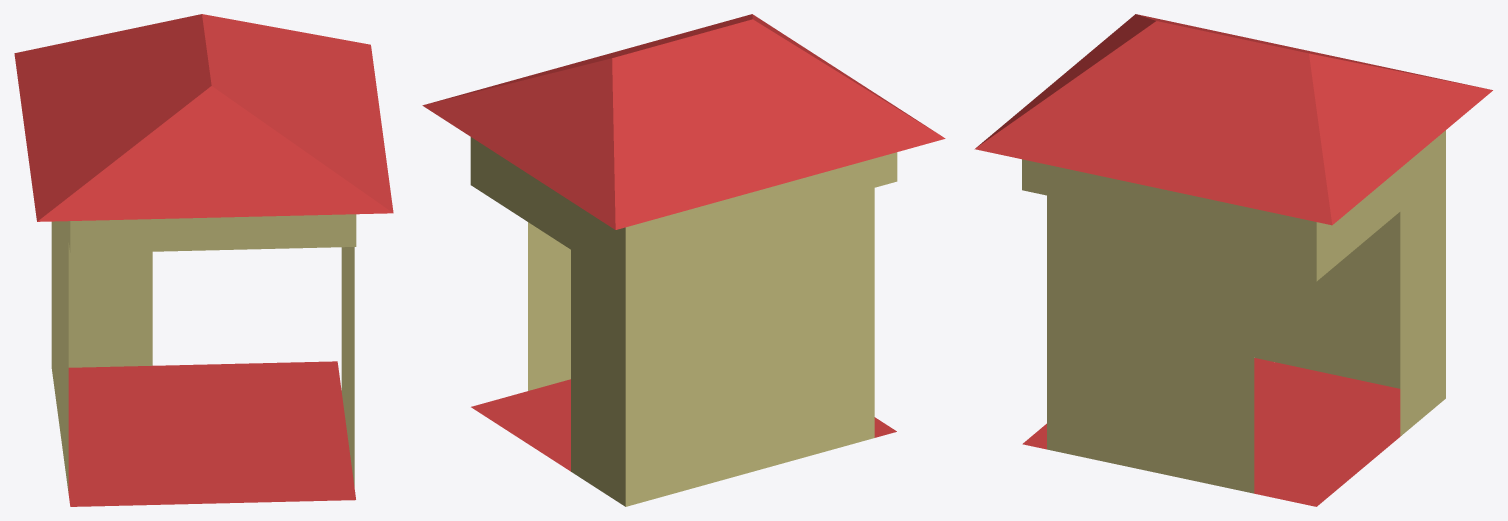
The picture shows the model from 3 angles, left to right: view 1: azimuth 30°, elevation 25°; view 2: azimuth 150°, elevation 25°; view 3: azimuth 270°, elevation 25°; orthographic projection.
Parts seen in each view (by area): view 1: group_3, group_6, group_5, group_4; view 2: group_5, group_3, group_4, group_6; view 3: group_5, group_3, group_6, group_4.
Boxes of the visible parts, bbox=[...] form: group_3: bbox=[14, 14, 393, 221]; group_6: bbox=[68, 361, 355, 506]; group_5: bbox=[51, 214, 356, 492]; group_4: bbox=[15, 35, 391, 221]; group_5: bbox=[470, 137, 897, 506]; group_3: bbox=[428, 14, 945, 229]; group_4: bbox=[422, 14, 940, 229]; group_6: bbox=[471, 379, 896, 471]; group_5: bbox=[1022, 130, 1445, 493]; group_3: bbox=[974, 14, 1486, 225]; group_6: bbox=[1022, 358, 1400, 506]; group_4: bbox=[976, 14, 1492, 224].
Bounding box in the file's own units: 14.09 × 14.62 × 11.98.
